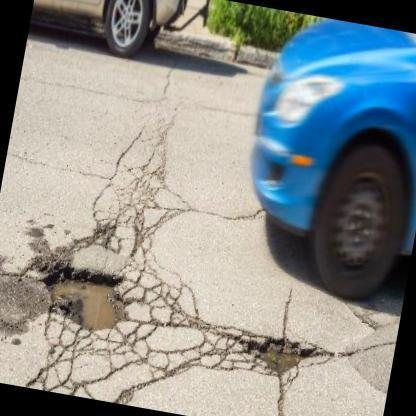pothole: (40, 262, 134, 338), (228, 330, 326, 380)
